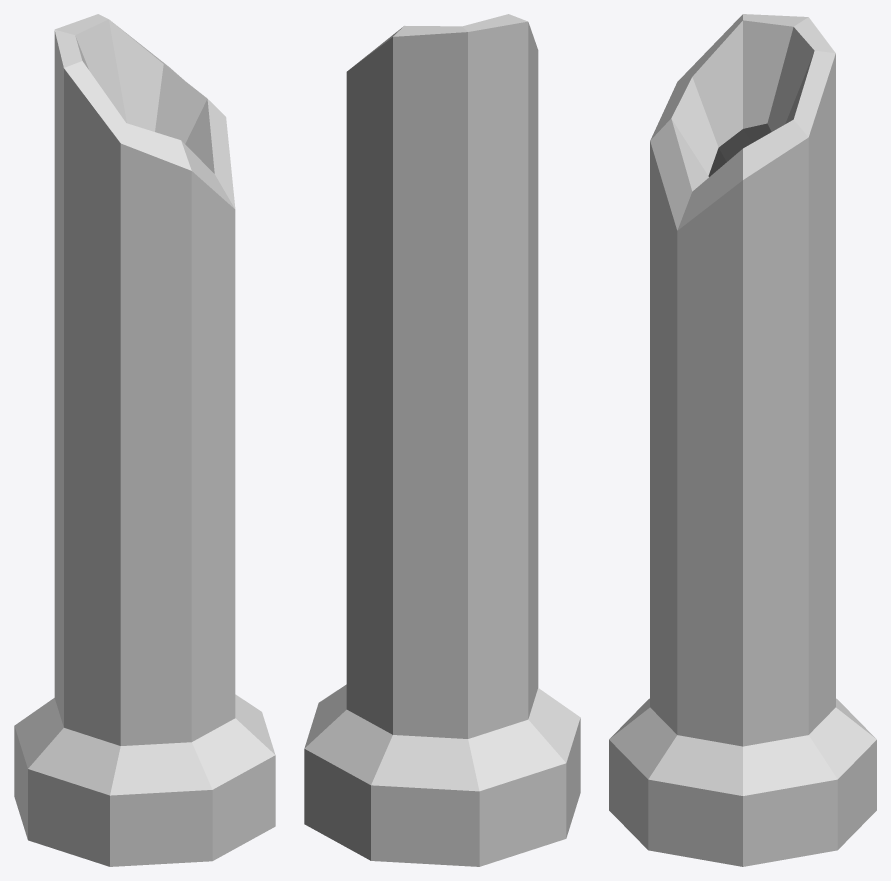
File: cicle_pillar_broken.glb
3 views of the same model, side by side, from view 1: azimuth 30°, elevation 25°; view 2: azimuth 150°, elevation 25°; view 3: azimuth 270°, elevation 25° (orthographic). The views are drawn at different scales.
Visible parts, largest first — view 1: CirclePillarBroken; view 2: CirclePillarBroken; view 3: CirclePillarBroken.
Part boxes in pixels (x1=…): CirclePillarBroken: x1=14, y1=14, x2=275, y2=866; CirclePillarBroken: x1=304, y1=14, x2=580, y2=866; CirclePillarBroken: x1=609, y1=14, x2=876, y2=866.
Bounding box in the file's own units: 2 × 6.3 × 2.
Materials: 1 (1 with a texture image).
